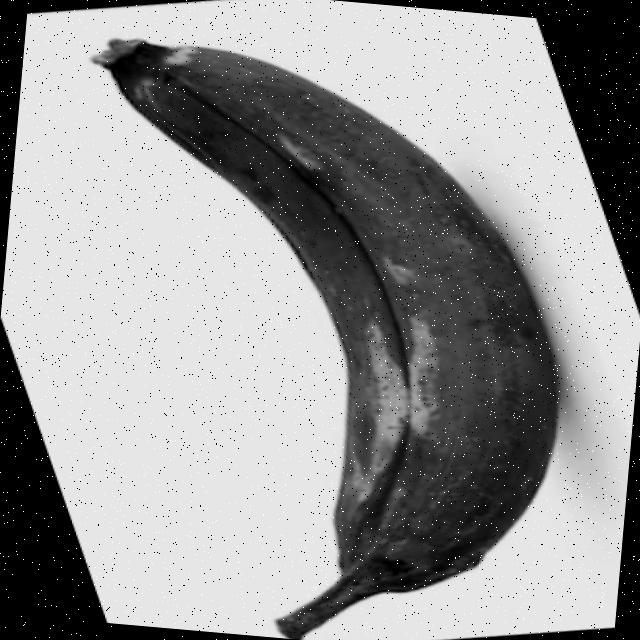Rotten: (39, 37, 584, 640)
